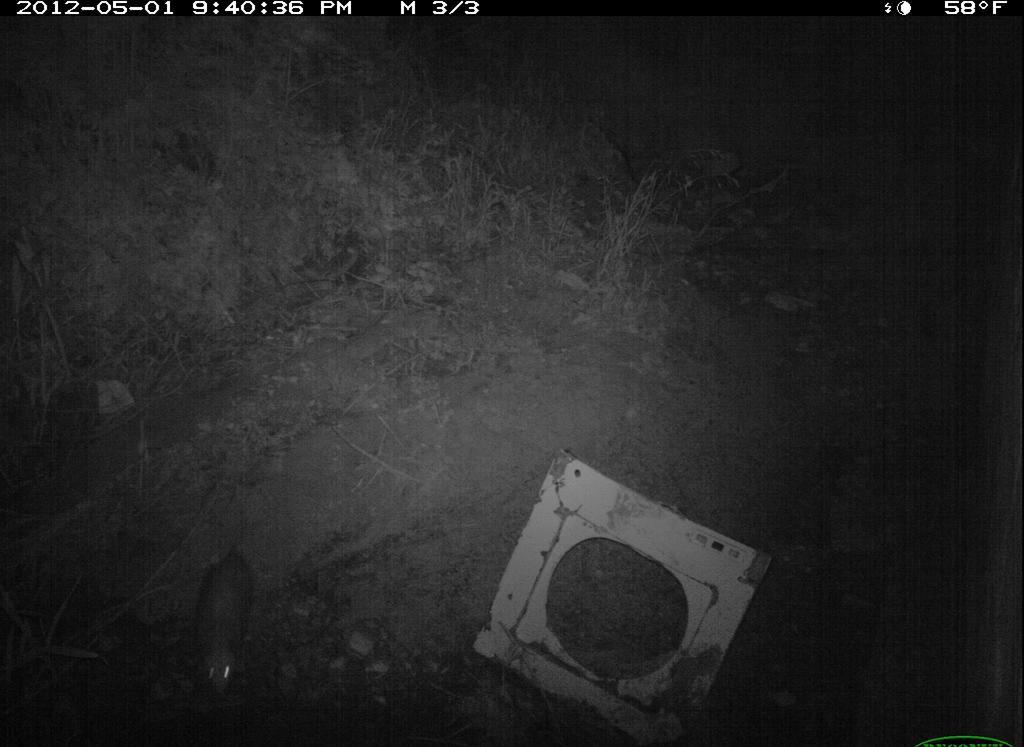opossum: (181, 530, 278, 707)
